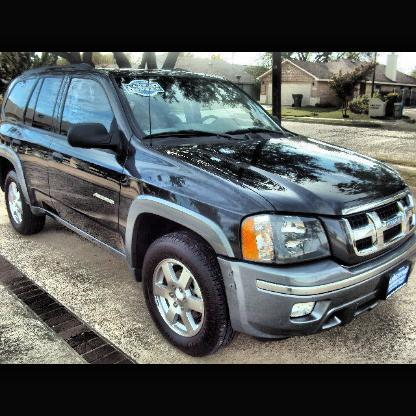Isuzu Ascender SUV 2008: (2, 67, 416, 358)
